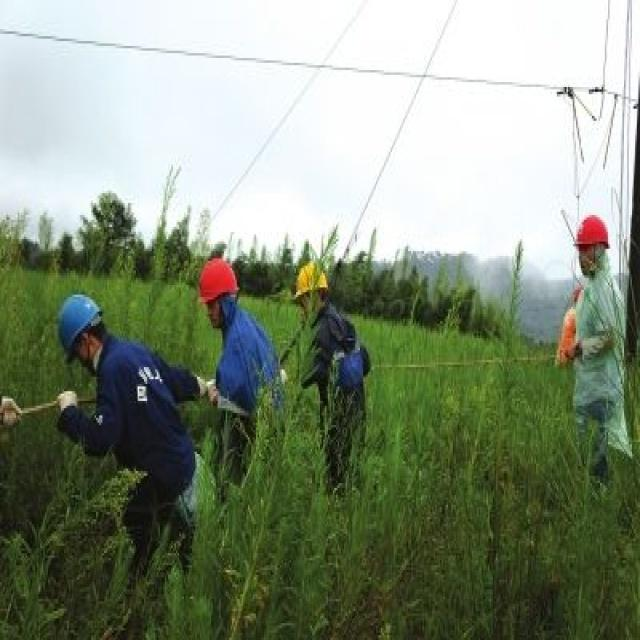helmet: (56, 387, 102, 489), (200, 342, 237, 442), (575, 283, 610, 373), (293, 346, 327, 426)
